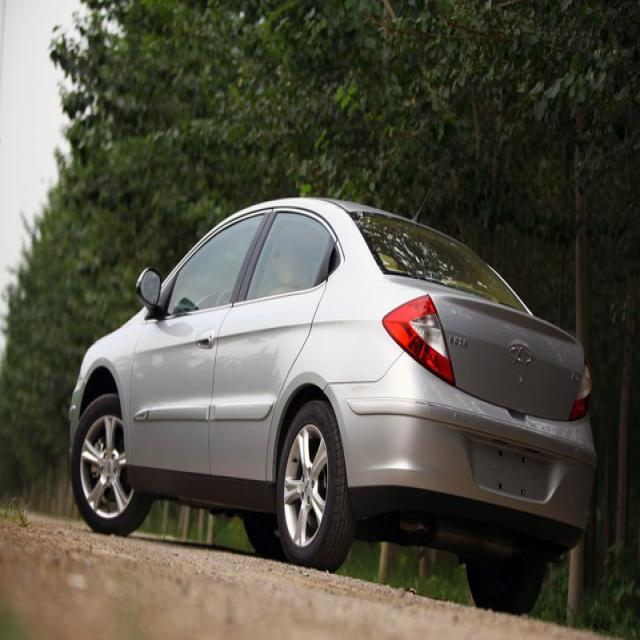back_glass: (346, 208, 534, 314)
back_left_side_light: (382, 290, 456, 388)
back_right_side_light: (568, 346, 594, 426)
door: (208, 209, 344, 411)
front_left_side_door: (127, 205, 274, 498)
front_left_side_mirror: (136, 262, 163, 322)
rear_bumper: (321, 377, 597, 539)
wheel: (276, 398, 351, 571), (71, 390, 152, 533), (462, 552, 549, 612)
